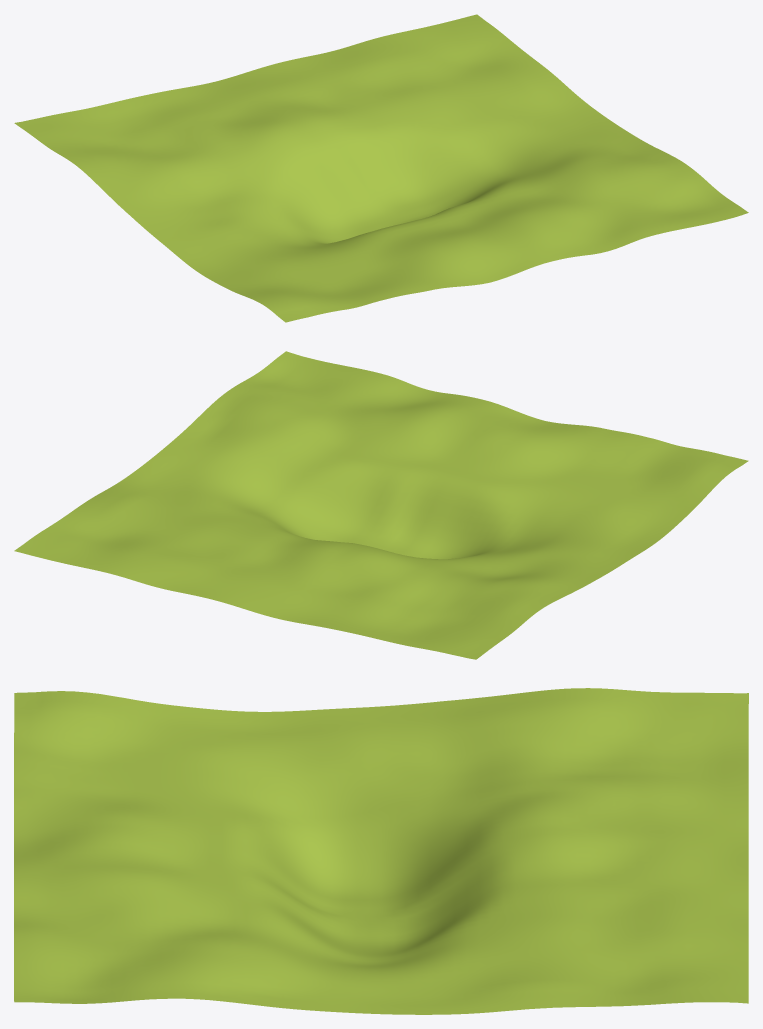
File: bosse_neg3.fbx
3 renders of one model, top to bottom at view 1: azimuth 30°, elevation 25°; view 2: azimuth 150°, elevation 25°; view 3: azimuth 270°, elevation 25°, orthographic. The views are drawn at different scales.
Visible parts, largest first — view 1: bosse_neg3; view 2: bosse_neg3; view 3: bosse_neg3.
Part boxes in pixels (x1,y1,x2,y2): bosse_neg3: [14, 14, 748, 322]; bosse_neg3: [14, 351, 748, 659]; bosse_neg3: [14, 688, 748, 1014].
Size of the model in its own units: 708 by 85.39 by 721.
